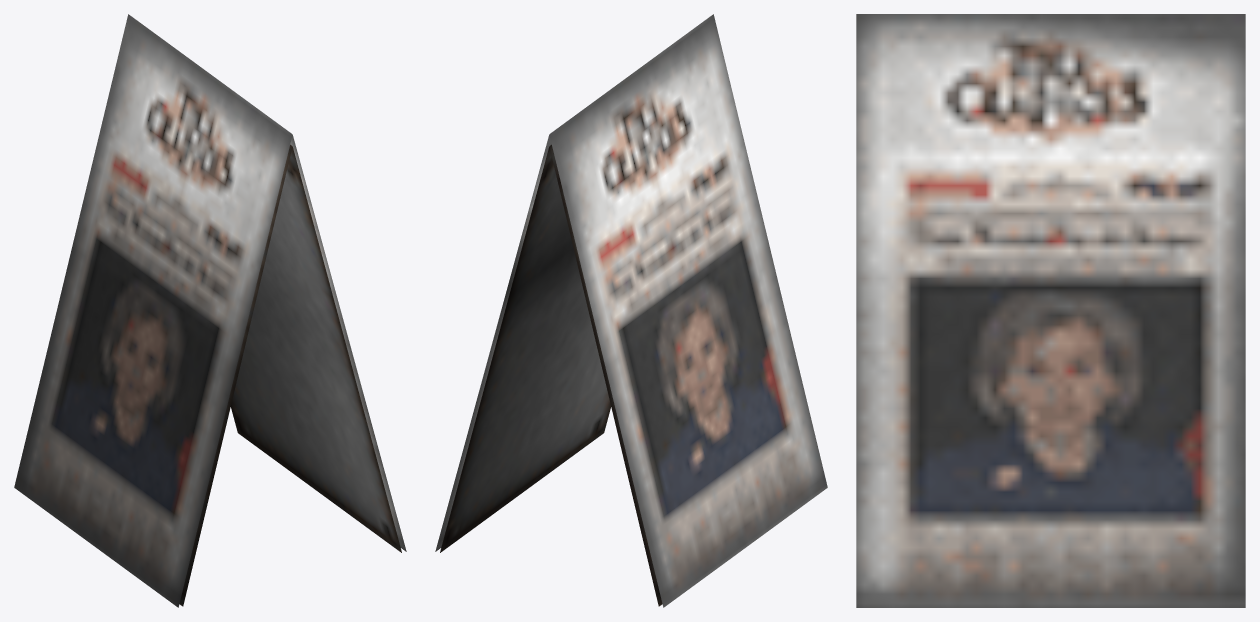
The model's file is newsstand2.fbx.
3 views of the same model, side by side, from view 1: azimuth 30°, elevation 25°; view 2: azimuth 150°, elevation 25°; view 3: azimuth 270°, elevation 25° (orthographic). The views are drawn at different scales.
Visible parts, largest first — view 1: newsstand2; view 2: newsstand2; view 3: newsstand2.
Boxes of the visible parts, x1,y1,x2,y2 form: newsstand2: (14,14,406,607); newsstand2: (435,14,827,607); newsstand2: (856,14,1245,607).
Bounding box in the file's own units: 41.41 × 51.64 × 77.27.
Materials: 1 (1 with a texture image).
